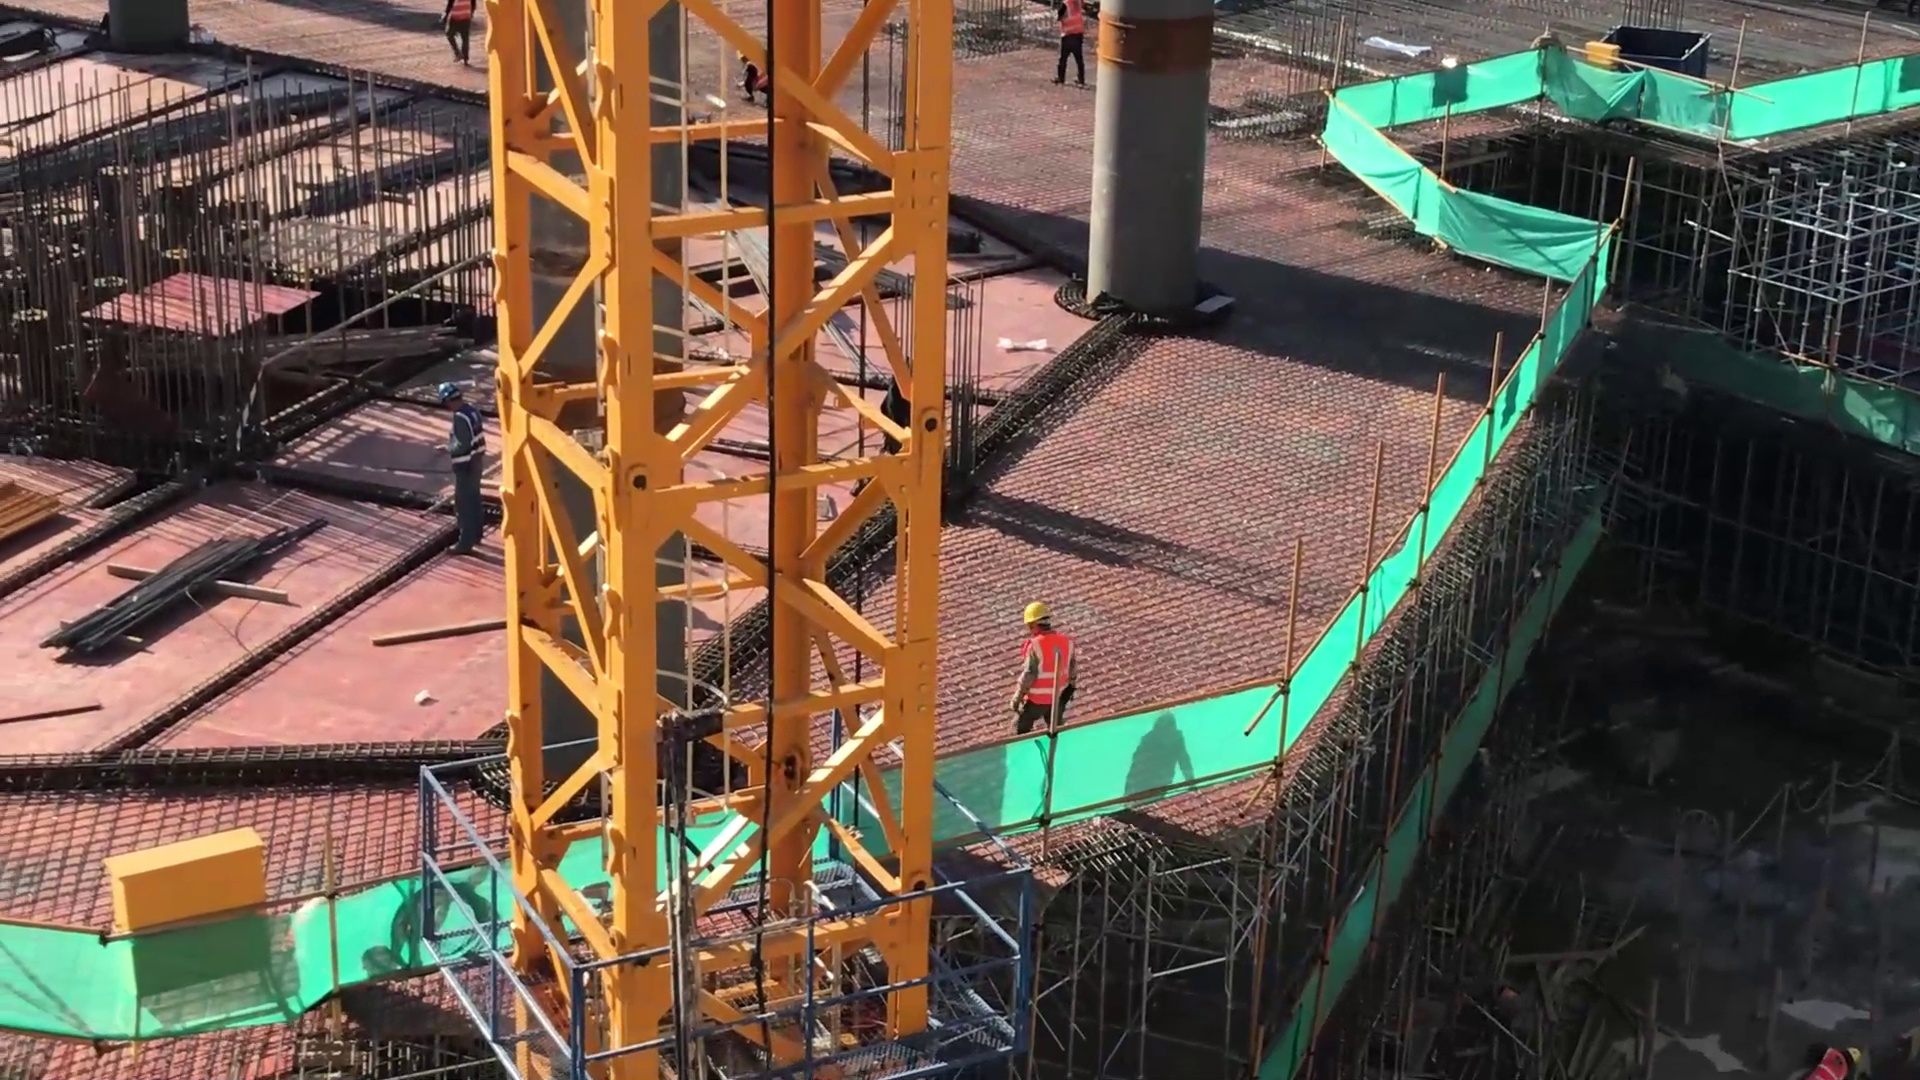helmet: (1016, 599, 1065, 640), (437, 382, 465, 409), (1848, 1040, 1864, 1065)
person: (1008, 595, 1084, 740), (434, 383, 491, 559), (1045, 1, 1095, 91), (1796, 1032, 1859, 1080), (438, 1, 479, 66), (732, 50, 775, 108)
vest: (1027, 644, 1074, 717), (444, 408, 486, 460), (1058, 2, 1089, 42), (1809, 1049, 1845, 1080)
